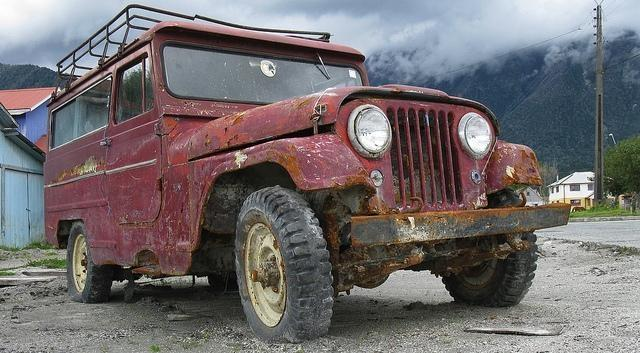car: (42, 19, 574, 344), (570, 206, 588, 212)
truck: (46, 5, 577, 314)
